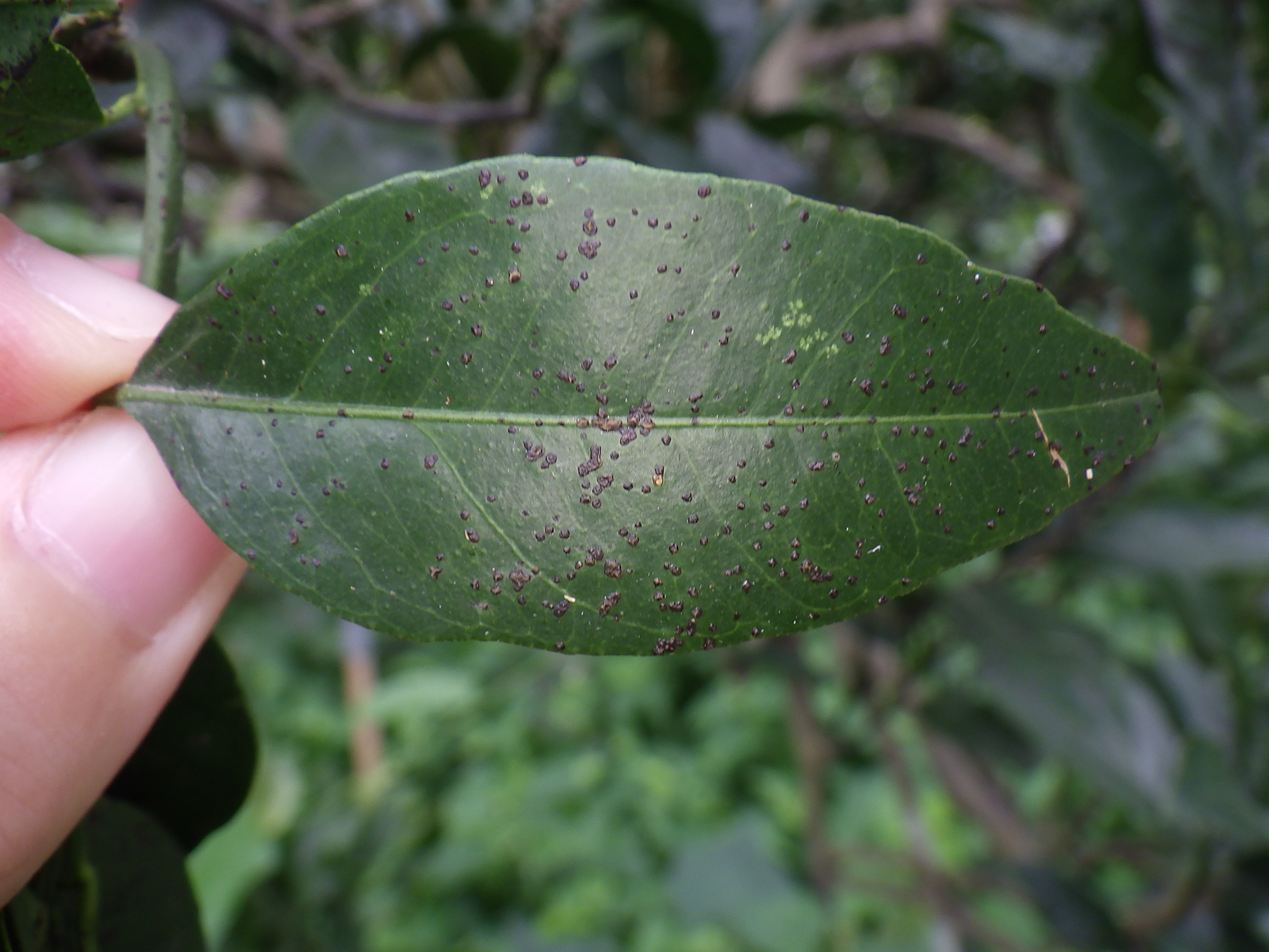Black_Spot: (116, 156, 1162, 653)
